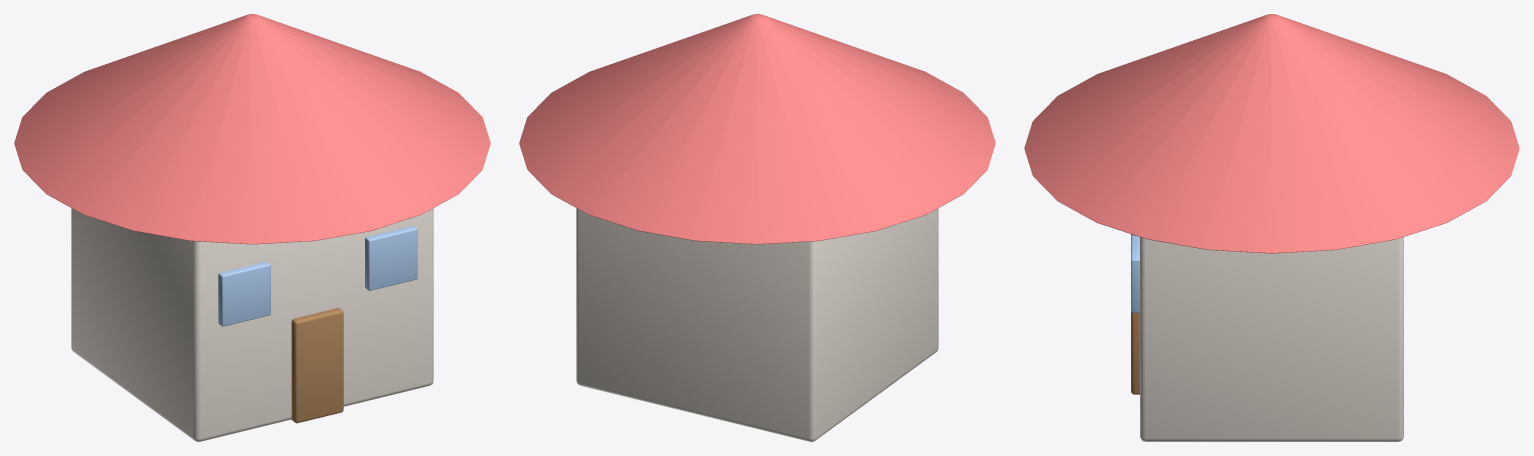
The model's file is house.glb.
3 views of the same model, side by side, from view 1: azimuth 30°, elevation 25°; view 2: azimuth 150°, elevation 25°; view 3: azimuth 270°, elevation 25° (orthographic). The views are drawn at different scales.
Visible parts, largest first — view 1: house; view 2: house; view 3: house.
Boxes of the visible parts, x1,y1,x2,y2 form: house: (14, 14, 490, 441); house: (519, 14, 995, 441); house: (1024, 14, 1519, 441).
Bounding box in the file's own units: 1.69 × 1.38 × 1.69.
